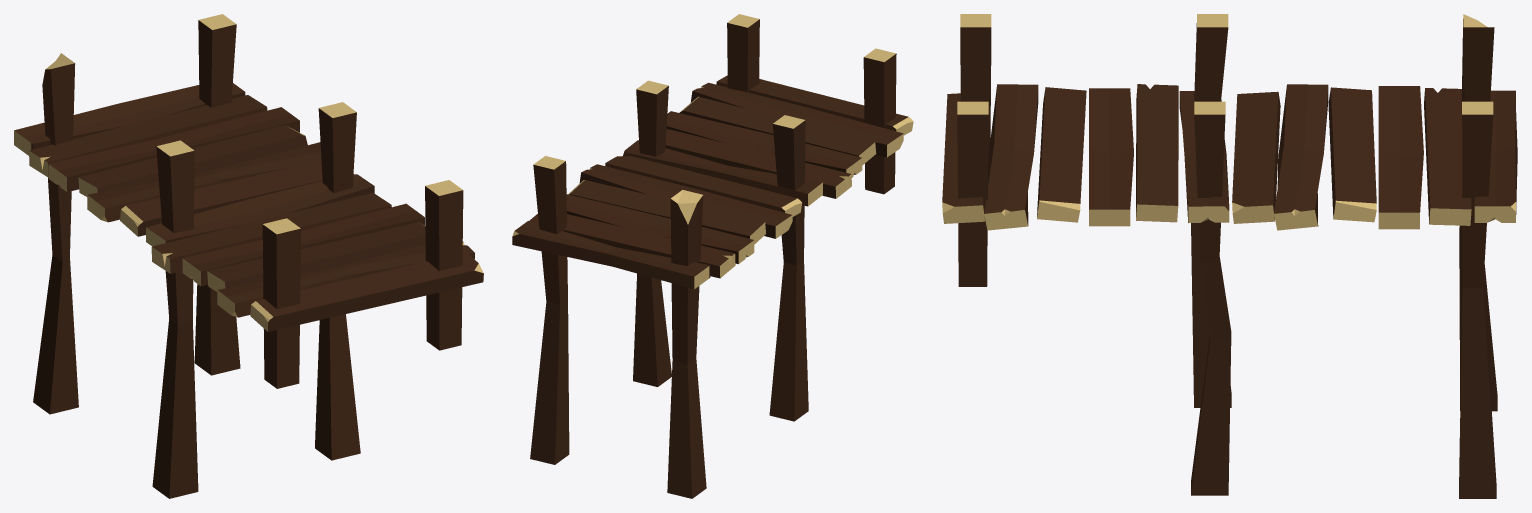
Rendered from Ponton.fbx.
The picture shows the model from 3 angles, left to right: view 1: azimuth 30°, elevation 25°; view 2: azimuth 150°, elevation 25°; view 3: azimuth 270°, elevation 25°; orthographic projection. The views are drawn at different scales.
Parts seen in each view (by area): view 1: Cube.116; view 2: Cube.116; view 3: Cube.116.
Part boxes in pixels (x1,y1,x2,y2): Cube.116: [14, 14, 483, 498]; Cube.116: [512, 14, 913, 498]; Cube.116: [942, 14, 1517, 498].
Bounding box in the file's own units: 7.29 × 13.69 × 10.05.
